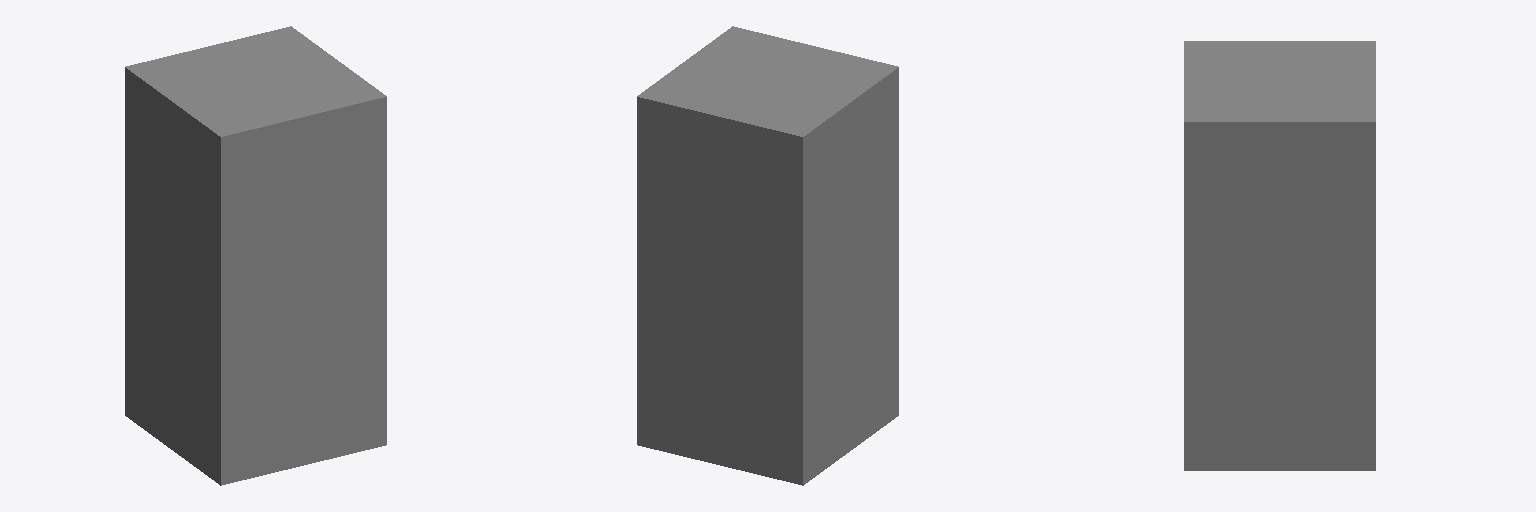
3 views of the same model, side by side, from view 1: azimuth 30°, elevation 25°; view 2: azimuth 150°, elevation 25°; view 3: azimuth 270°, elevation 25° (orthographic).
Parts seen in each view (by area): view 1: Dummy-0; view 2: Dummy-0; view 3: Dummy-0.
Part boxes in pixels (bbox=[...]): Dummy-0: bbox=[125, 26, 386, 485]; Dummy-0: bbox=[637, 26, 898, 485]; Dummy-0: bbox=[1184, 41, 1375, 470].
Size of the model in its own units: 6 by 12 by 6.
Materials: 1 (1 with a texture image).